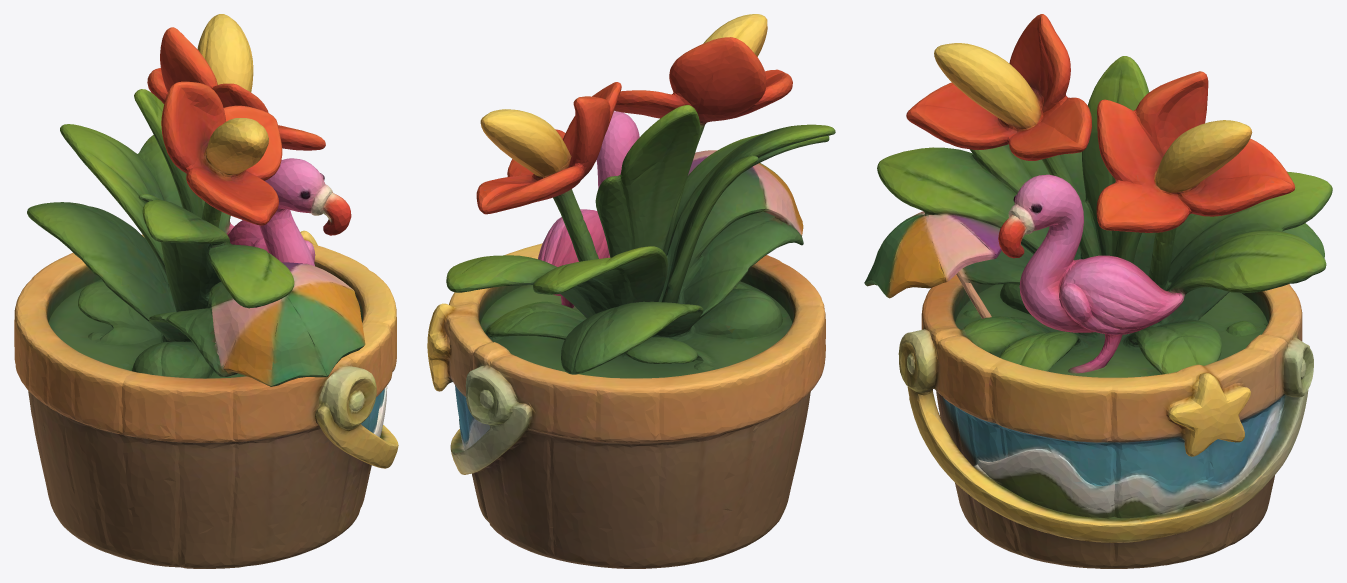
The model's file is flower_11.glb.
The picture shows the model from 3 angles, left to right: view 1: azimuth 30°, elevation 25°; view 2: azimuth 150°, elevation 25°; view 3: azimuth 270°, elevation 25°; orthographic projection.
Parts seen in each view (by area): view 1: tripo_node_e8e20f42-a4b4-4e20-adf7-49370c0fdebd; view 2: tripo_node_e8e20f42-a4b4-4e20-adf7-49370c0fdebd; view 3: tripo_node_e8e20f42-a4b4-4e20-adf7-49370c0fdebd.
Part boxes in pixels (x1,y1,x2,y2): tripo_node_e8e20f42-a4b4-4e20-adf7-49370c0fdebd: [14, 14, 398, 568]; tripo_node_e8e20f42-a4b4-4e20-adf7-49370c0fdebd: [427, 14, 835, 568]; tripo_node_e8e20f42-a4b4-4e20-adf7-49370c0fdebd: [864, 14, 1332, 568].
Size of the model in its own units: 0.7575 by 0.9998 by 0.9203.
Materials: 1 (1 with a texture image).
